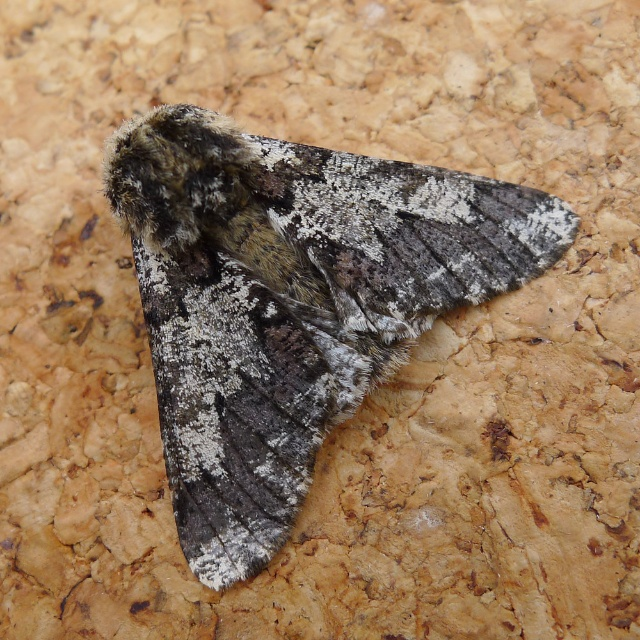Moths and butterflies: (100, 100, 586, 594)
